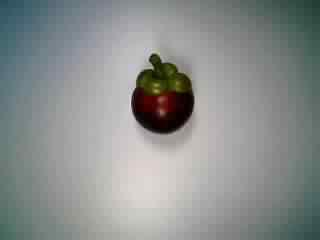mangosteen: (122, 48, 203, 137)
